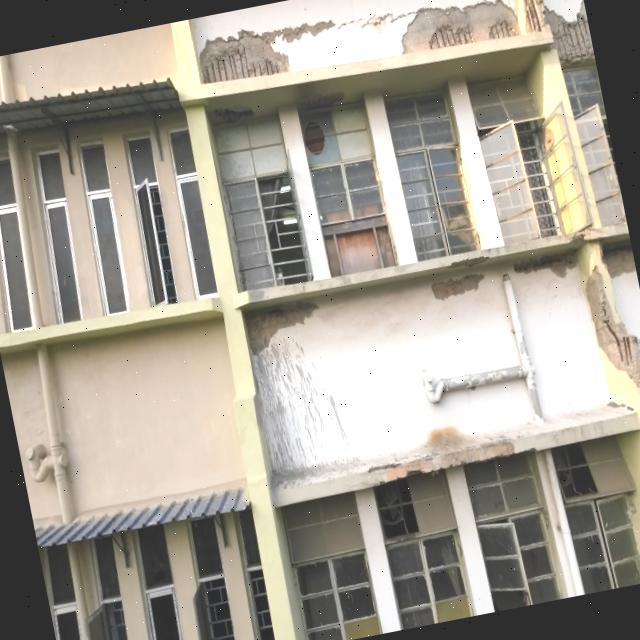peeling: (515, 253, 575, 278), (432, 273, 484, 300)
spalling: (585, 266, 640, 385), (199, 30, 290, 83), (246, 302, 318, 354), (543, 1, 595, 64), (429, 24, 473, 49), (604, 248, 636, 278), (489, 20, 516, 38)
stain_mould: (427, 426, 462, 447)
